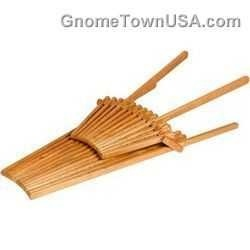obstacle: (1, 51, 249, 198)
